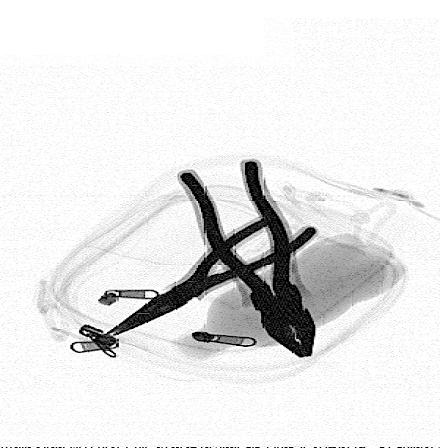Pliers: (174, 156, 322, 361), (94, 210, 325, 340)
